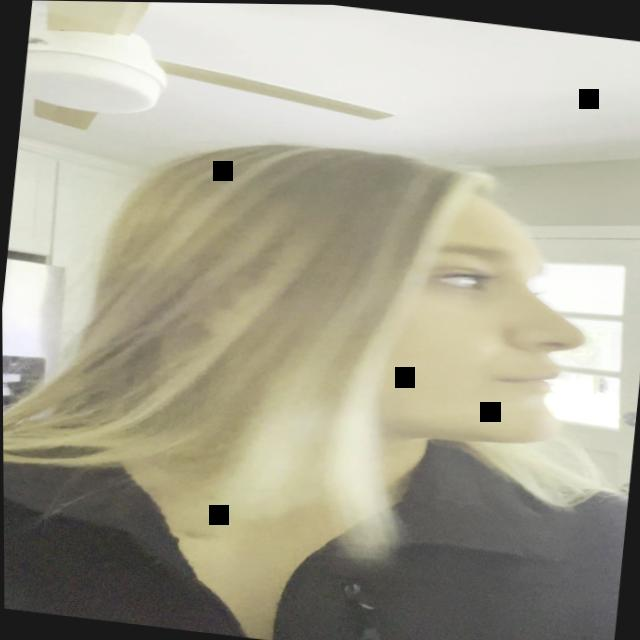NO-Mask: (341, 181, 602, 457)
